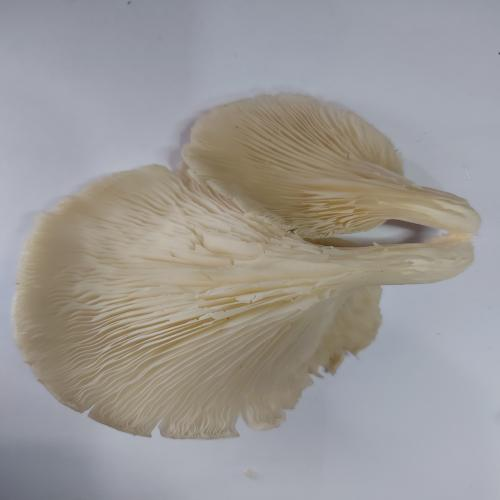Oyster Mushroom: (12, 91, 481, 440)
